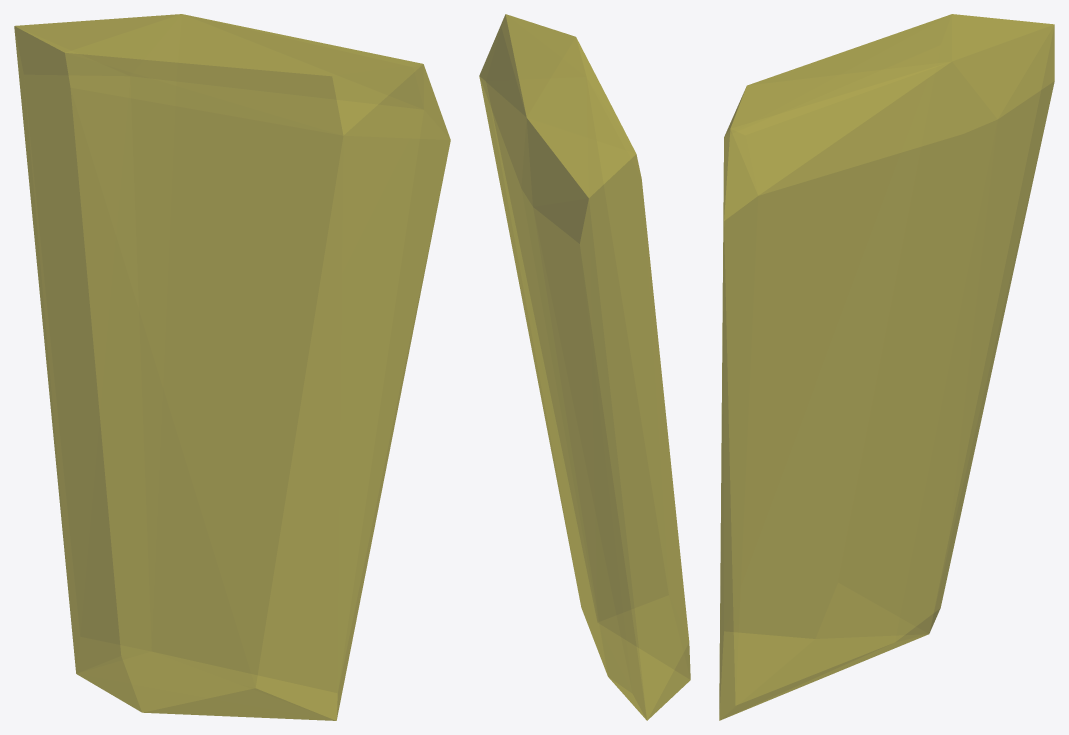
3 views of the same model, side by side, from view 1: azimuth 30°, elevation 25°; view 2: azimuth 150°, elevation 25°; view 3: azimuth 270°, elevation 25° (orthographic). The views are drawn at different scales.
Visible parts, largest first — view 1: Shape_IndexedFaceSet.041_Shape_IndexedFaceSet.6448; view 2: Shape_IndexedFaceSet.041_Shape_IndexedFaceSet.6448; view 3: Shape_IndexedFaceSet.041_Shape_IndexedFaceSet.6448.
Boxes of the visible parts, x1=… form: Shape_IndexedFaceSet.041_Shape_IndexedFaceSet.6448: x1=14, y1=14, x2=450, y2=720; Shape_IndexedFaceSet.041_Shape_IndexedFaceSet.6448: x1=479, y1=14, x2=690, y2=720; Shape_IndexedFaceSet.041_Shape_IndexedFaceSet.6448: x1=719, y1=14, x2=1054, y2=720.
Bounding box in the file's own units: 0.1783 × 0.3944 × 0.1874.
